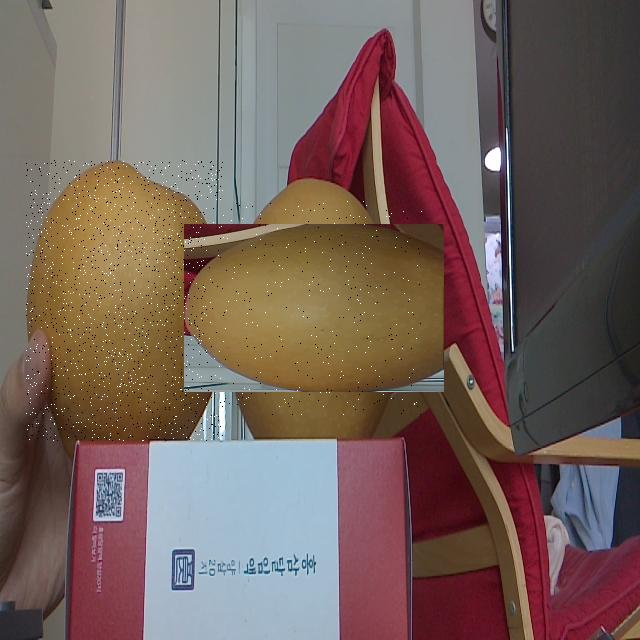pear: (26, 160, 223, 441), (207, 201, 422, 415)
